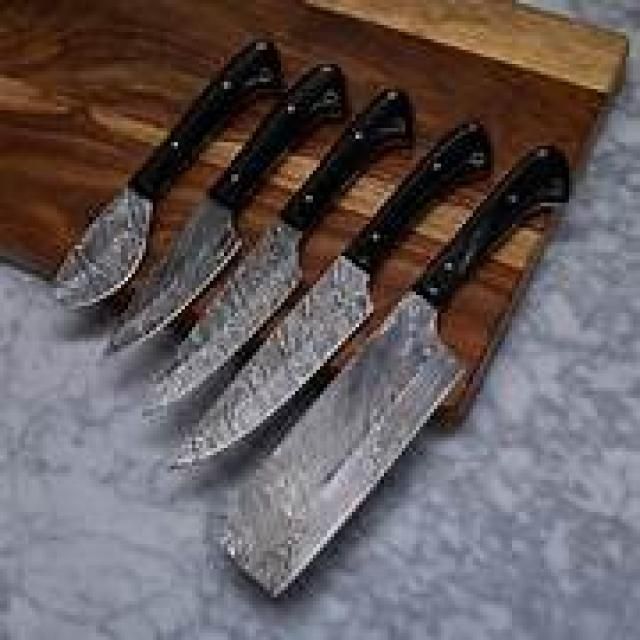Knife: (228, 146, 565, 590), (178, 128, 487, 462), (153, 89, 409, 405), (107, 64, 341, 348), (53, 39, 277, 306)
